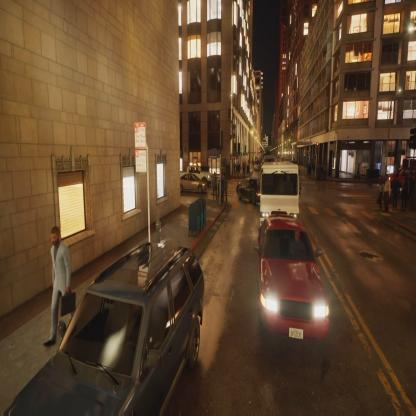License-Plate: (288, 324, 305, 342)
